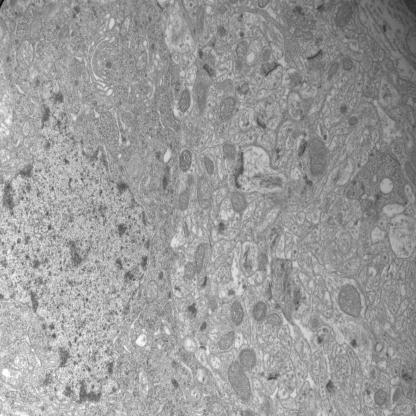mitochondria: (226, 360, 255, 403), (337, 280, 364, 321), (306, 134, 329, 178), (193, 175, 214, 211), (15, 38, 36, 72), (236, 346, 260, 374), (334, 1, 355, 30), (220, 94, 238, 121), (250, 298, 268, 324), (194, 241, 208, 274), (195, 82, 209, 112), (228, 190, 247, 212), (216, 328, 235, 350), (230, 297, 244, 326), (144, 277, 159, 304), (233, 36, 250, 59), (178, 148, 193, 174), (179, 86, 192, 115), (176, 188, 192, 211), (221, 140, 238, 161), (292, 26, 314, 42), (202, 152, 216, 176), (372, 385, 388, 406), (341, 54, 356, 74), (182, 260, 196, 281), (326, 61, 340, 82), (262, 46, 272, 63)
